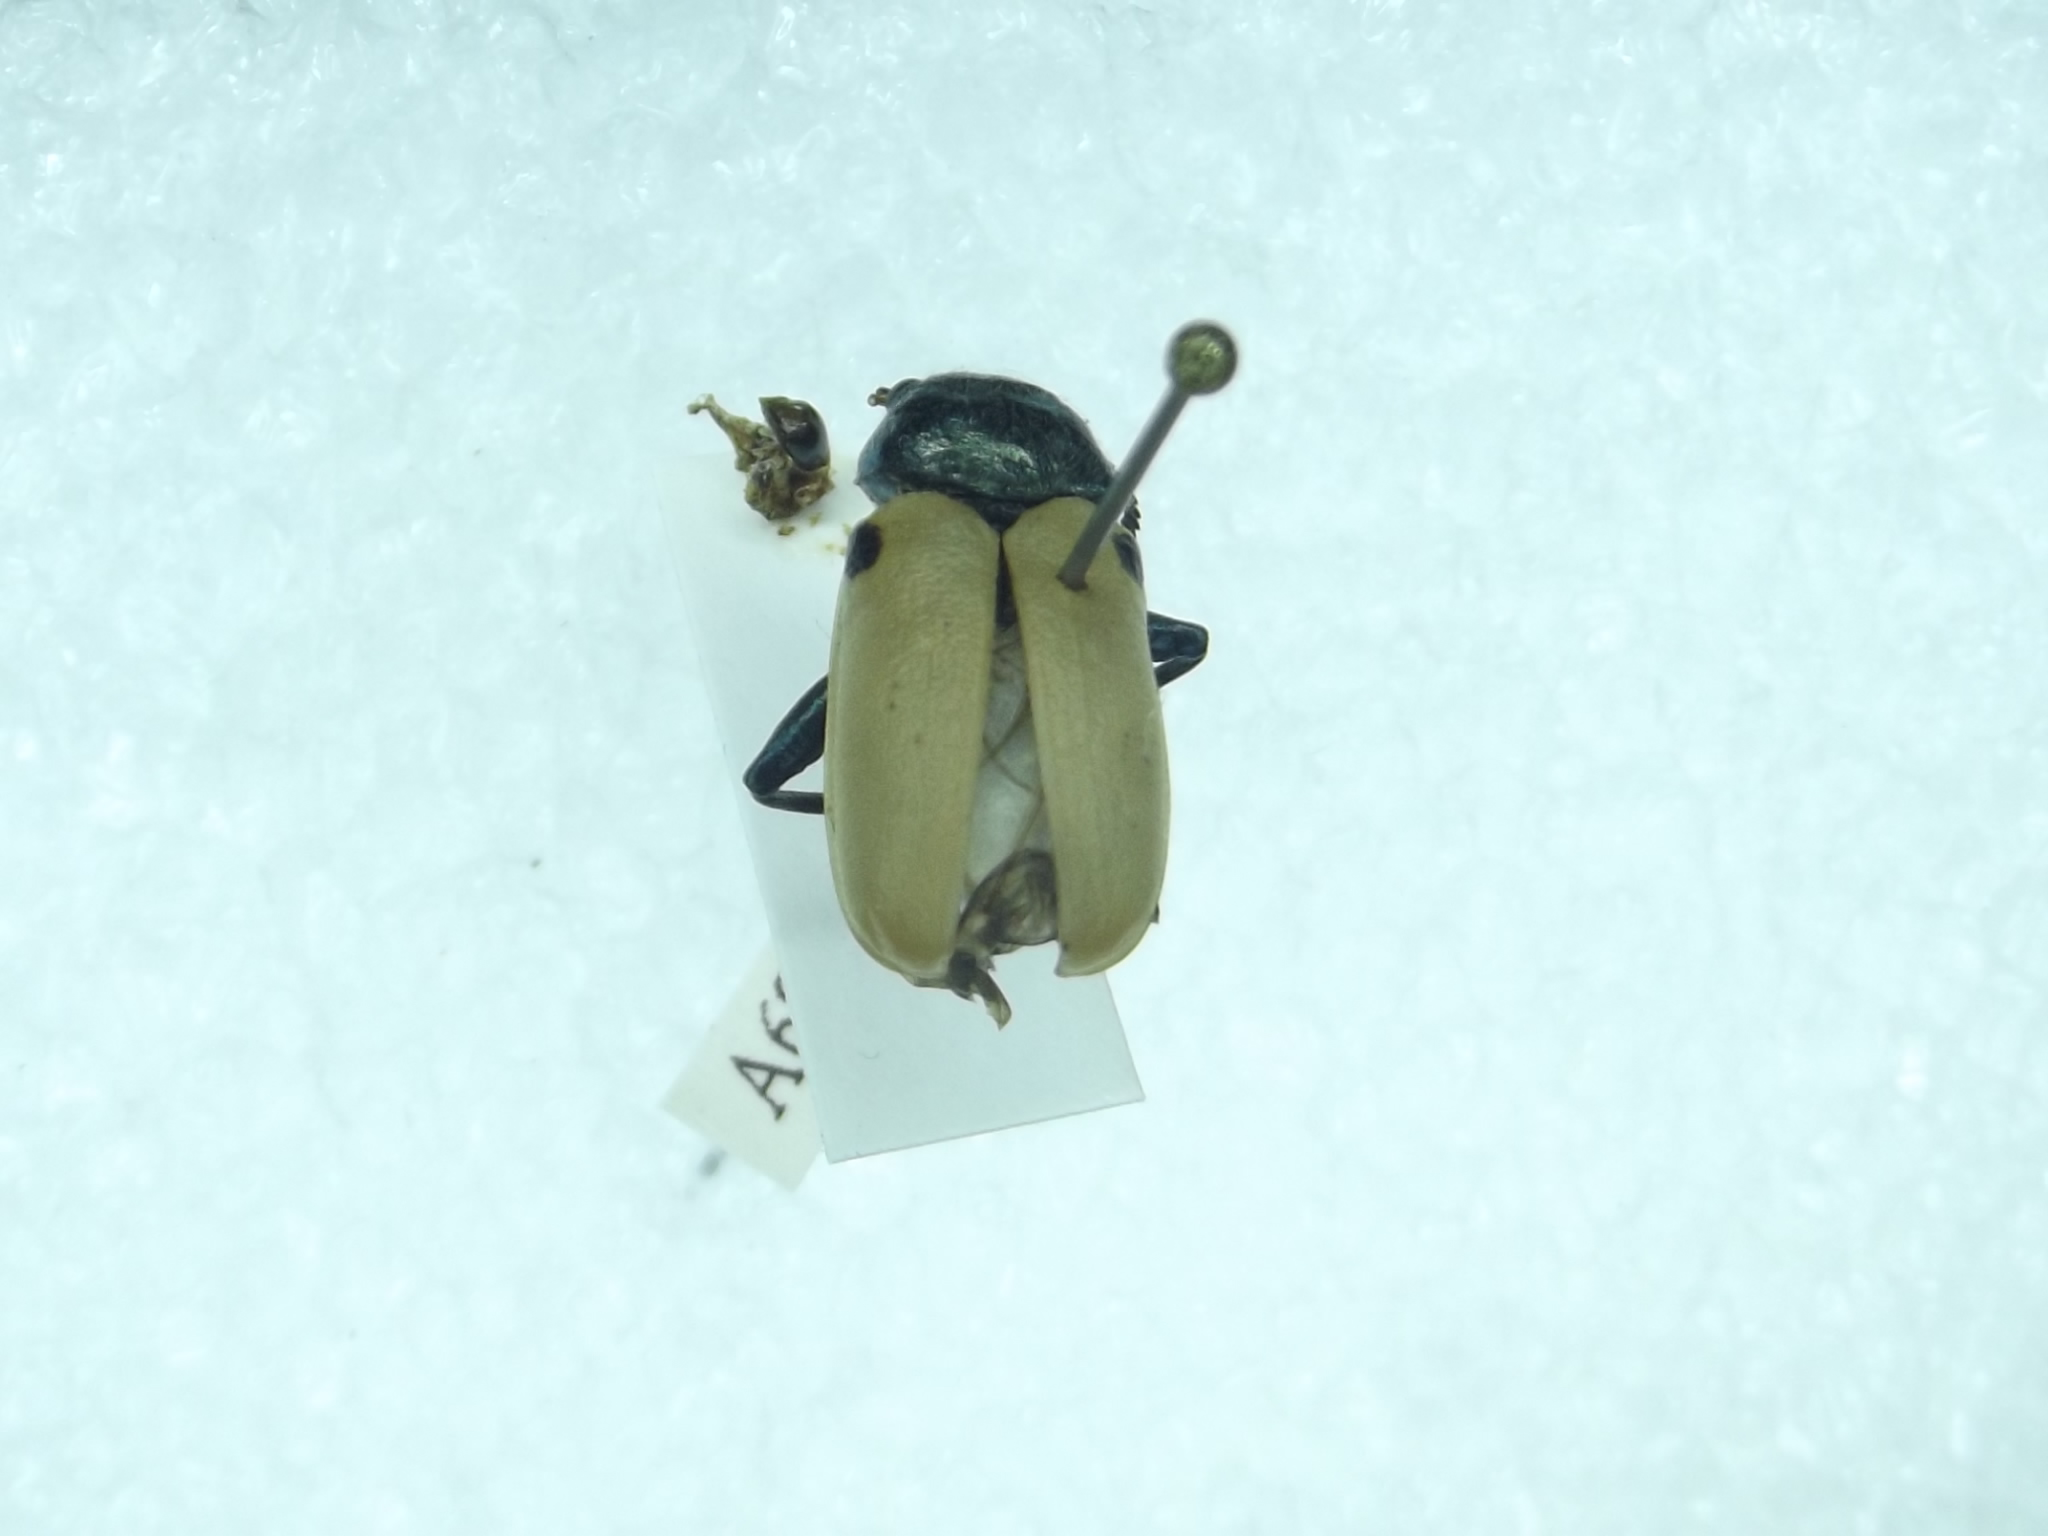Labidostomis_asiatica: (729, 336, 1218, 1026)
